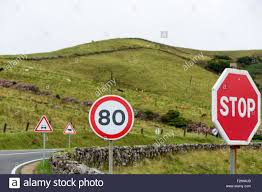Speed_limit_80km: (89, 95, 134, 140)
